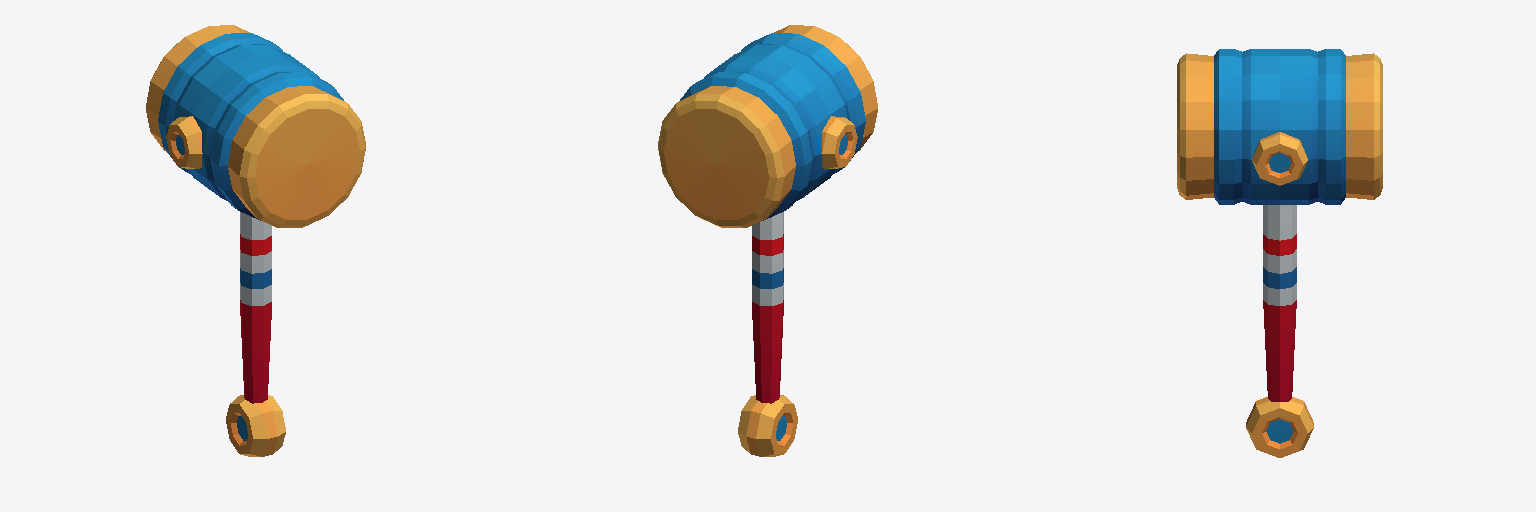
3 views of the same model, side by side, from view 1: azimuth 30°, elevation 25°; view 2: azimuth 150°, elevation 25°; view 3: azimuth 270°, elevation 25° (orthographic).
Visible parts, largest first — view 1: clown_hammer; view 2: clown_hammer; view 3: clown_hammer.
Boxes of the visible parts, box(x1,y1,x2,y2) form: clown_hammer: box(146, 25, 365, 456); clown_hammer: box(658, 25, 877, 456); clown_hammer: box(1177, 49, 1382, 457).
Bounding box in the file's own units: 0.6996 × 1.71 × 0.7987.
Materials: 1 (1 with a texture image).